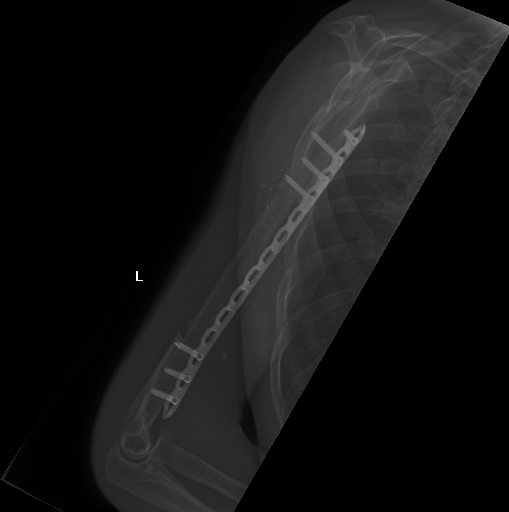implant: (208, 209, 296, 340), (281, 114, 375, 219), (138, 331, 212, 430)
